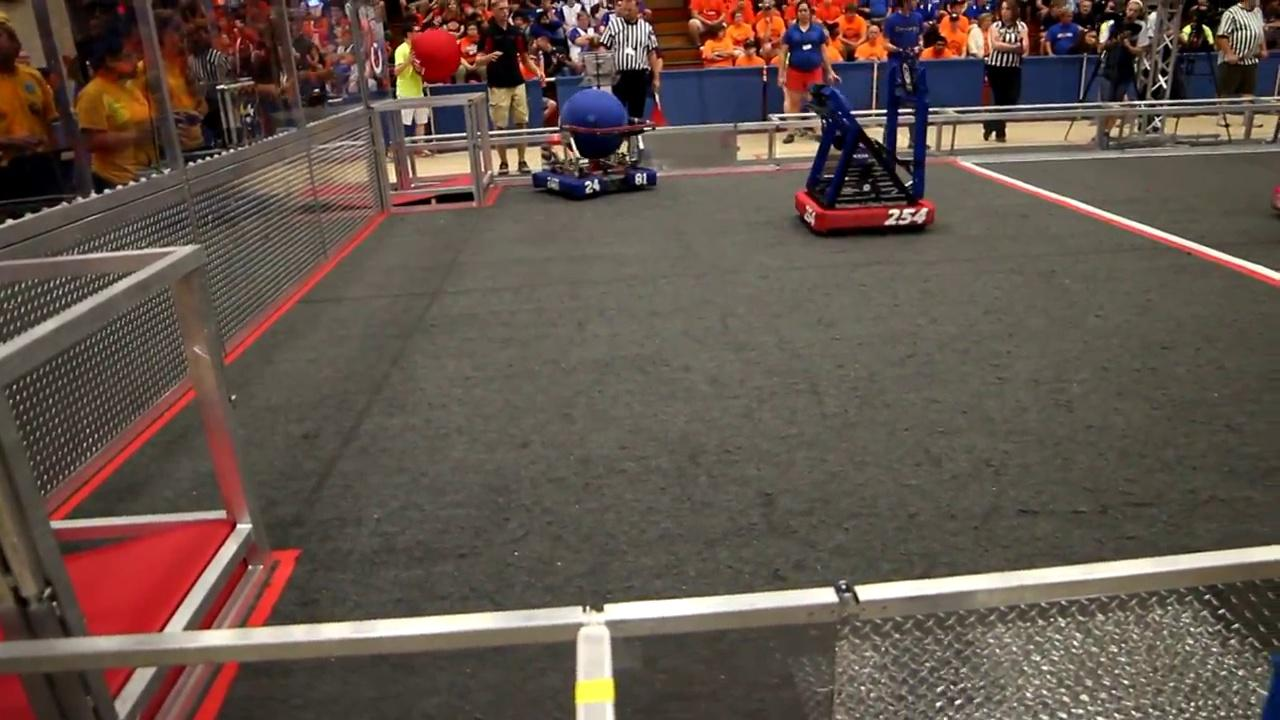robot: (790, 80, 937, 236), (526, 88, 661, 204)
